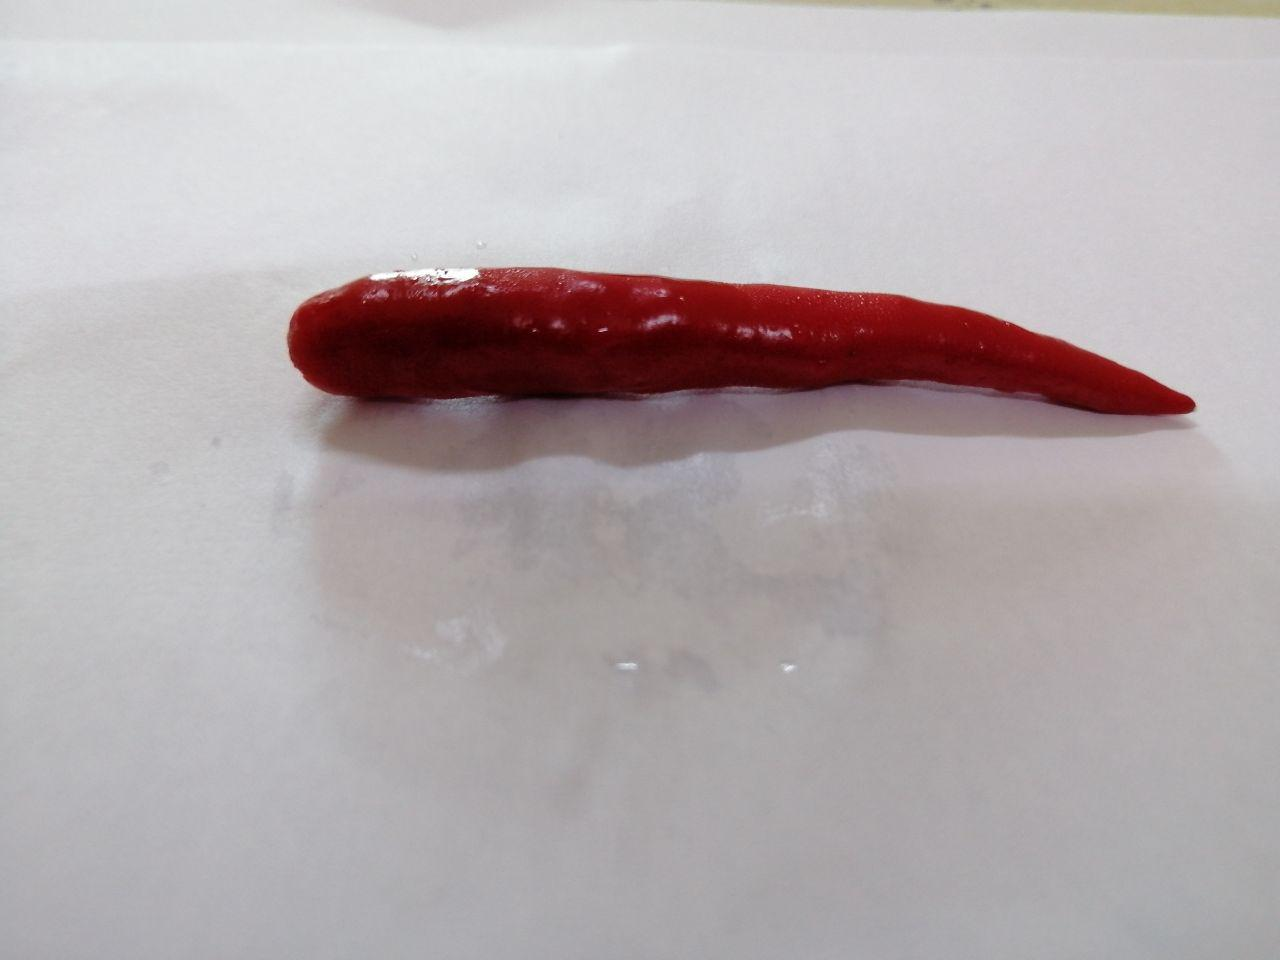lada merah: (255, 244, 1230, 502)
